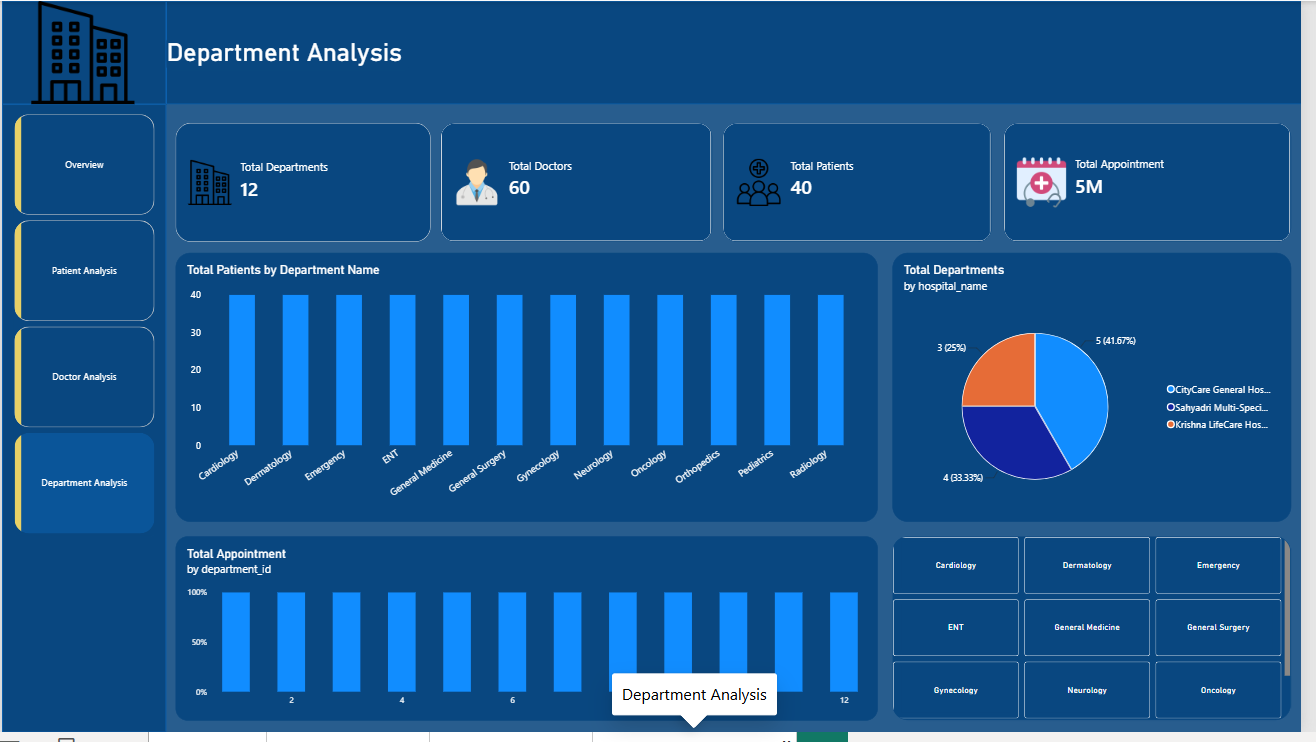

The page's visual inventory and layout, read from the dashboard file:
{"tool":"powerbi","page":{"name":"Department Analysis","canvas":[1920,1080],"ordinal":3},"visuals":[{"type":"shape","box":[0,152.7,242.8,928.1],"z":0},{"type":"shape","box":[0,0,242.8,152.7],"z":1000},{"type":"shape","box":[242.8,0,1678,152.7],"z":2000},{"type":"pageNavigator","box":[17.6,166.4,209.5,624.6],"z":3000},{"type":"textbox","title":"Department Analysis","box":[242.8,52.9,360.3,50.9],"z":4001},{"type":"image","box":[17.6,0,203.6,152.7],"z":5002},{"type":"cardVisual","fields":{"Data":["CountNonNull(department.department_id)"]},"box":[256.5,180.1,377.9,176.2],"z":5007},{"type":"cardVisual","fields":{"Data":["CountNonNull(doctor.doctor_id)"]},"box":[648.1,180.1,401.4,176.2],"z":5008},{"type":"cardVisual","fields":{"Data":["CountNonNull(patient (2).patient_id)"]},"box":[1065.2,180.1,397.5,176.2],"z":5009},{"type":"cardVisual","fields":{"Data":["Sum(appointment.appointment_id)"]},"box":[1480.3,180.1,424.9,176.2],"z":5010},{"type":"columnChart","title":"Total Patients by Department Name ","fields":{"Category":["department.department_name"],"Y":["CountNonNull(patient (2).patient_id)"]},"box":[256.5,372,1037.7,397.5],"z":5011},{"type":"hundredPercentStackedColumnChart","fields":{"Category":["department.department_id"],"Y":["Sum(appointment.appointment_id)"]},"box":[256.5,791,1037.7,272.2],"z":5012},{"type":"pieChart","fields":{"Category":["hospital.hospital_name"],"Y":["CountNonNull(department.department_name)"]},"box":[1315.8,372,589.4,397.5],"z":5013},{"type":"advancedSlicerVisual","fields":{"Values":["department.department_name"]},"box":[1316,791,589,272],"z":5014}]}

Visuals, with their boxes on the page's 1920x1080 design canvas (x1, y1, x2, y2). These are canvas units, not pixel positions in the 1316x742 screenshot, which may show the page scaled, cropped or inside an application window:
shape: 0:153:243:1081
shape: 0:0:243:153
shape: 243:0:1921:153
pageNavigator: 18:166:227:791
"Department Analysis" textbox: 243:53:603:104
image: 18:0:221:153
cardVisual - CountNonNull(department.department_id): 256:180:634:356
cardVisual - CountNonNull(doctor.doctor_id): 648:180:1050:356
cardVisual - CountNonNull(patient (2).patient_id): 1065:180:1463:356
cardVisual - Sum(appointment.appointment_id): 1480:180:1905:356
"Total Patients by Department Name " columnChart: 256:372:1294:770
hundredPercentStackedColumnChart - department.department_id x Sum(appointment.appointment_id): 256:791:1294:1063
pieChart - hospital.hospital_name x CountNonNull(department.department_name): 1316:372:1905:770
advancedSlicerVisual - department.department_name: 1316:791:1905:1063
